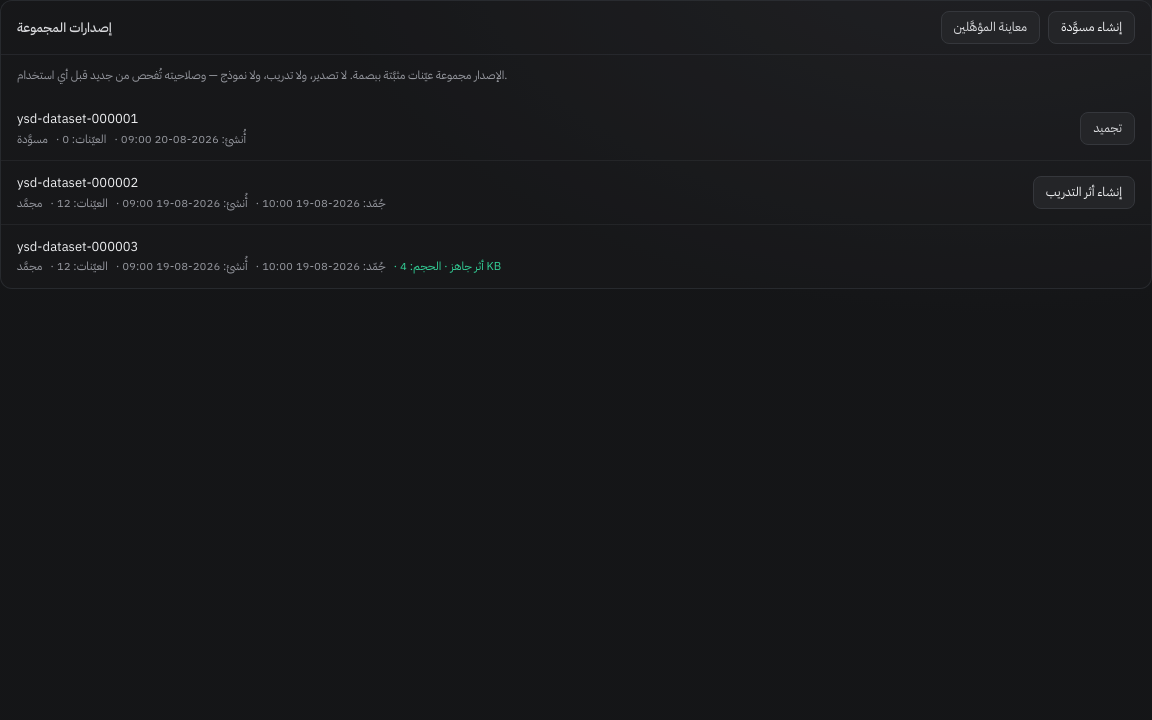
Test: ★ (٣) التأكيد — يسبق الفعل › ★ ★ والإلغاء ⇒ صفر طلب
What coordinates should you click on to do the following:
click the button "إنشاء أثر التدريب"
I would click on:
 (1084, 193)
Its box is top-left (1033, 176), bottom-right (1135, 209).
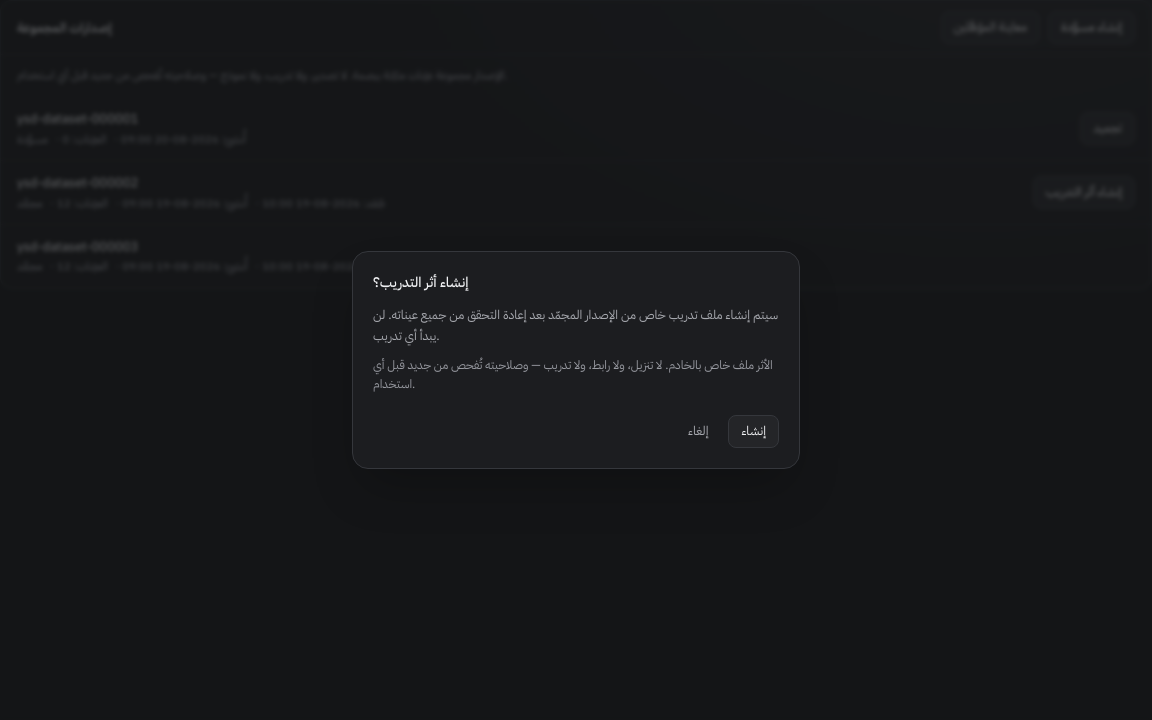
What coordinates should you click on to do the following:
click the button "إلغاء"
I would click on:
 (698, 431)
Its box is top-left (676, 416), bottom-right (720, 447).
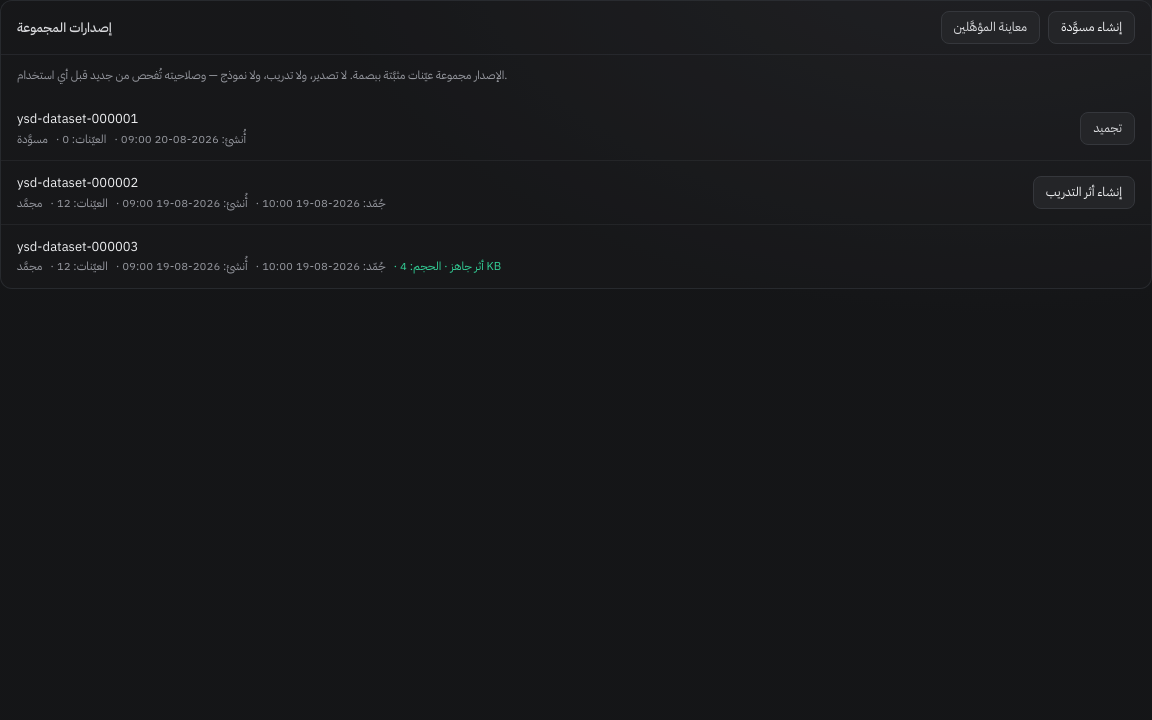
Expected: the dialog is gone
